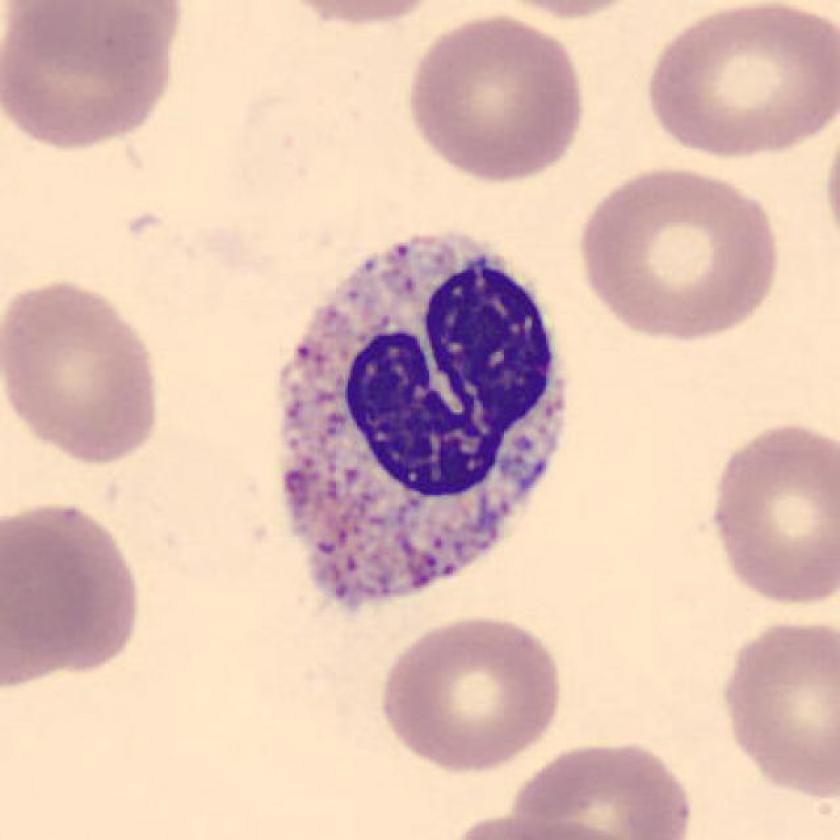neutrophil: (280, 233, 570, 609)
